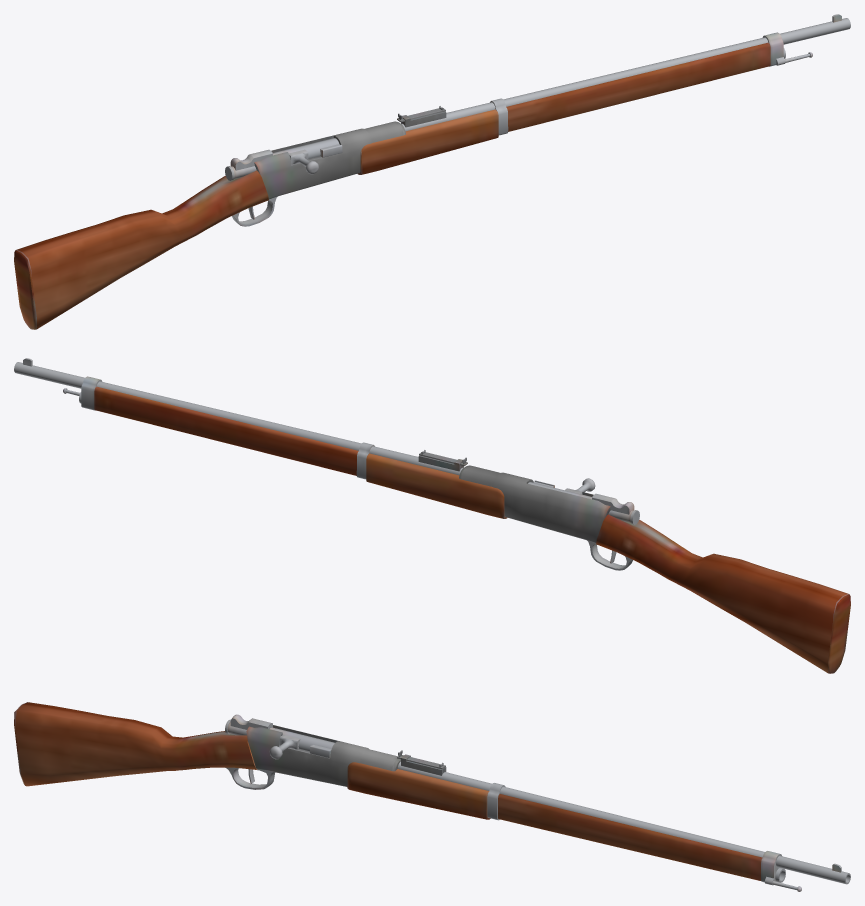
The model's file is lebel.glb.
3 views of the same model, one above another, from view 1: azimuth 30°, elevation 25°; view 2: azimuth 150°, elevation 25°; view 3: azimuth 330°, elevation 25° (orthographic).
Parts seen in each view (by area): view 1: Lebel1886; view 2: Lebel1886; view 3: Lebel1886.
Boxes of the visible parts, box(x1,y1,x2,y2) form: Lebel1886: box(14, 14, 850, 329); Lebel1886: box(14, 358, 850, 673); Lebel1886: box(14, 702, 850, 891).
Bounding box in the file's own units: 9.89 × 1.42 × 0.5833.
1 material, 1 textured.
